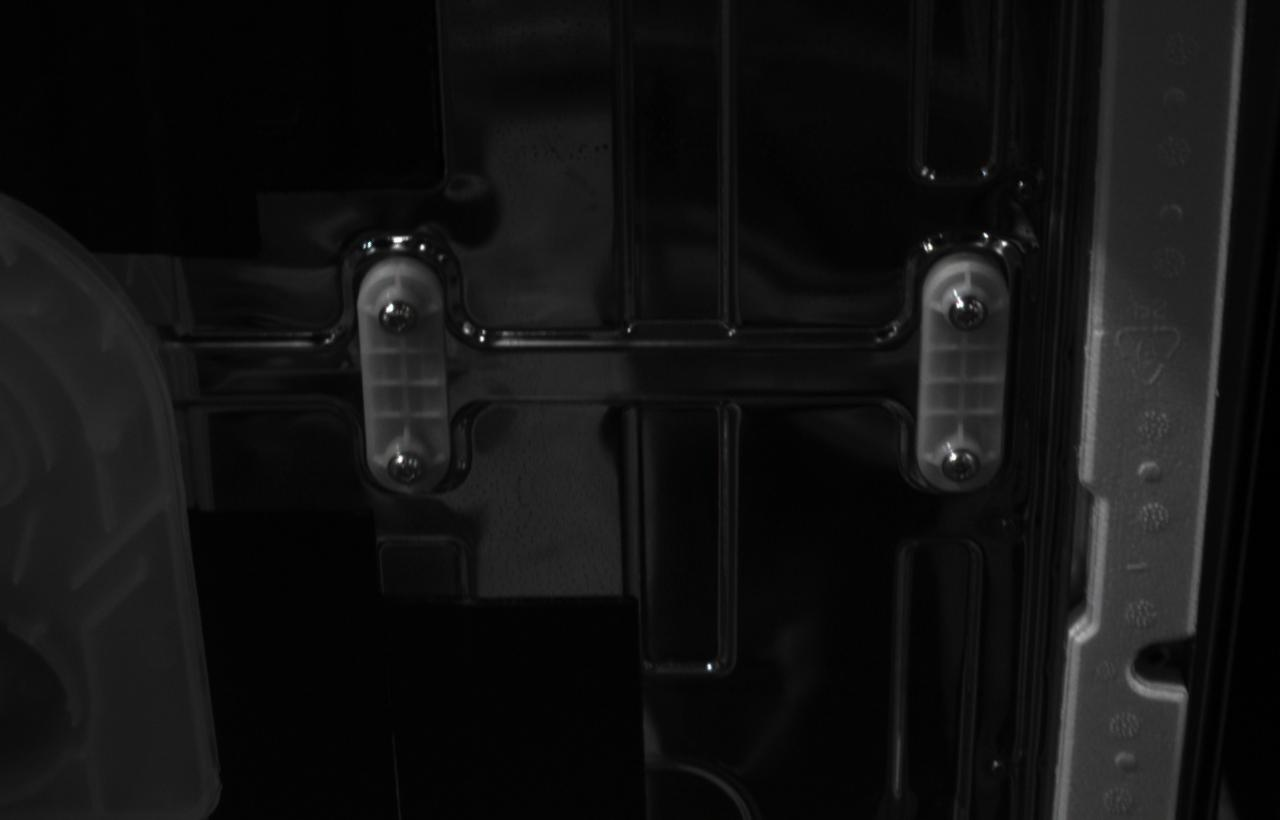vida-ok: (378, 299, 421, 339), (386, 450, 430, 488), (940, 447, 983, 484), (947, 295, 988, 333)
